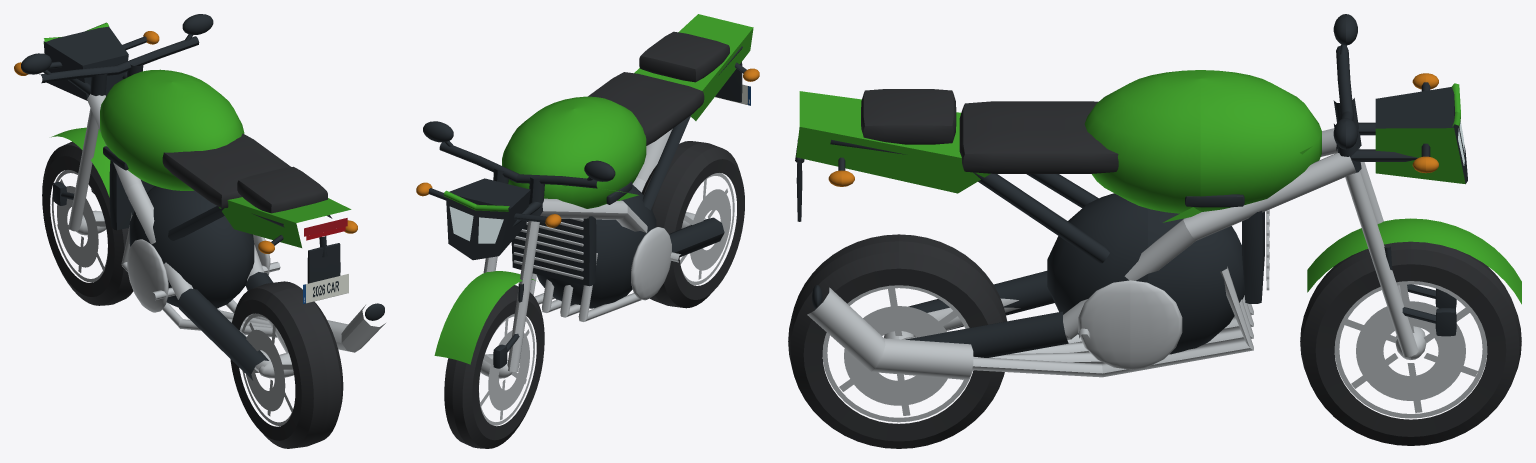
Rendered from Entrega_11d_LOD0.glb.
3 renders of one model, left to right at view 1: azimuth 30°, elevation 25°; view 2: azimuth 150°, elevation 25°; view 3: azimuth 270°, elevation 25°, orthographic. The views are drawn at different scales.
Visible parts, largest first — view 1: Body (×2), Wheel_R, Wheel_F, Plate, BrakeLights; view 2: Body (×2), Wheel_R, Wheel_F, Headlights, Indicators_L; view 3: Body (×2), Wheel_F, Wheel_R, Indicators_R.
Part boxes in pixels (x1,y1,x2,y2): Body (×2): (21, 14, 385, 380); Wheel_R: (230, 281, 343, 448); Wheel_F: (42, 141, 133, 305); Plate: (303, 274, 348, 303); BrakeLights: (304, 218, 347, 236); Body (×2): (423, 14, 753, 371); Wheel_R: (641, 141, 744, 308); Wheel_F: (444, 285, 544, 448); Headlights: (449, 206, 503, 243); Indicators_L: (545, 68, 759, 227); Body (×2): (795, 14, 1521, 379); Wheel_F: (1300, 241, 1521, 445); Wheel_R: (788, 234, 1006, 448); Indicators_R: (828, 156, 1438, 186).
Bounding box in the file's own units: 0.828 × 1.17 × 2.09.
Materials: 10 (1 with a texture image).
